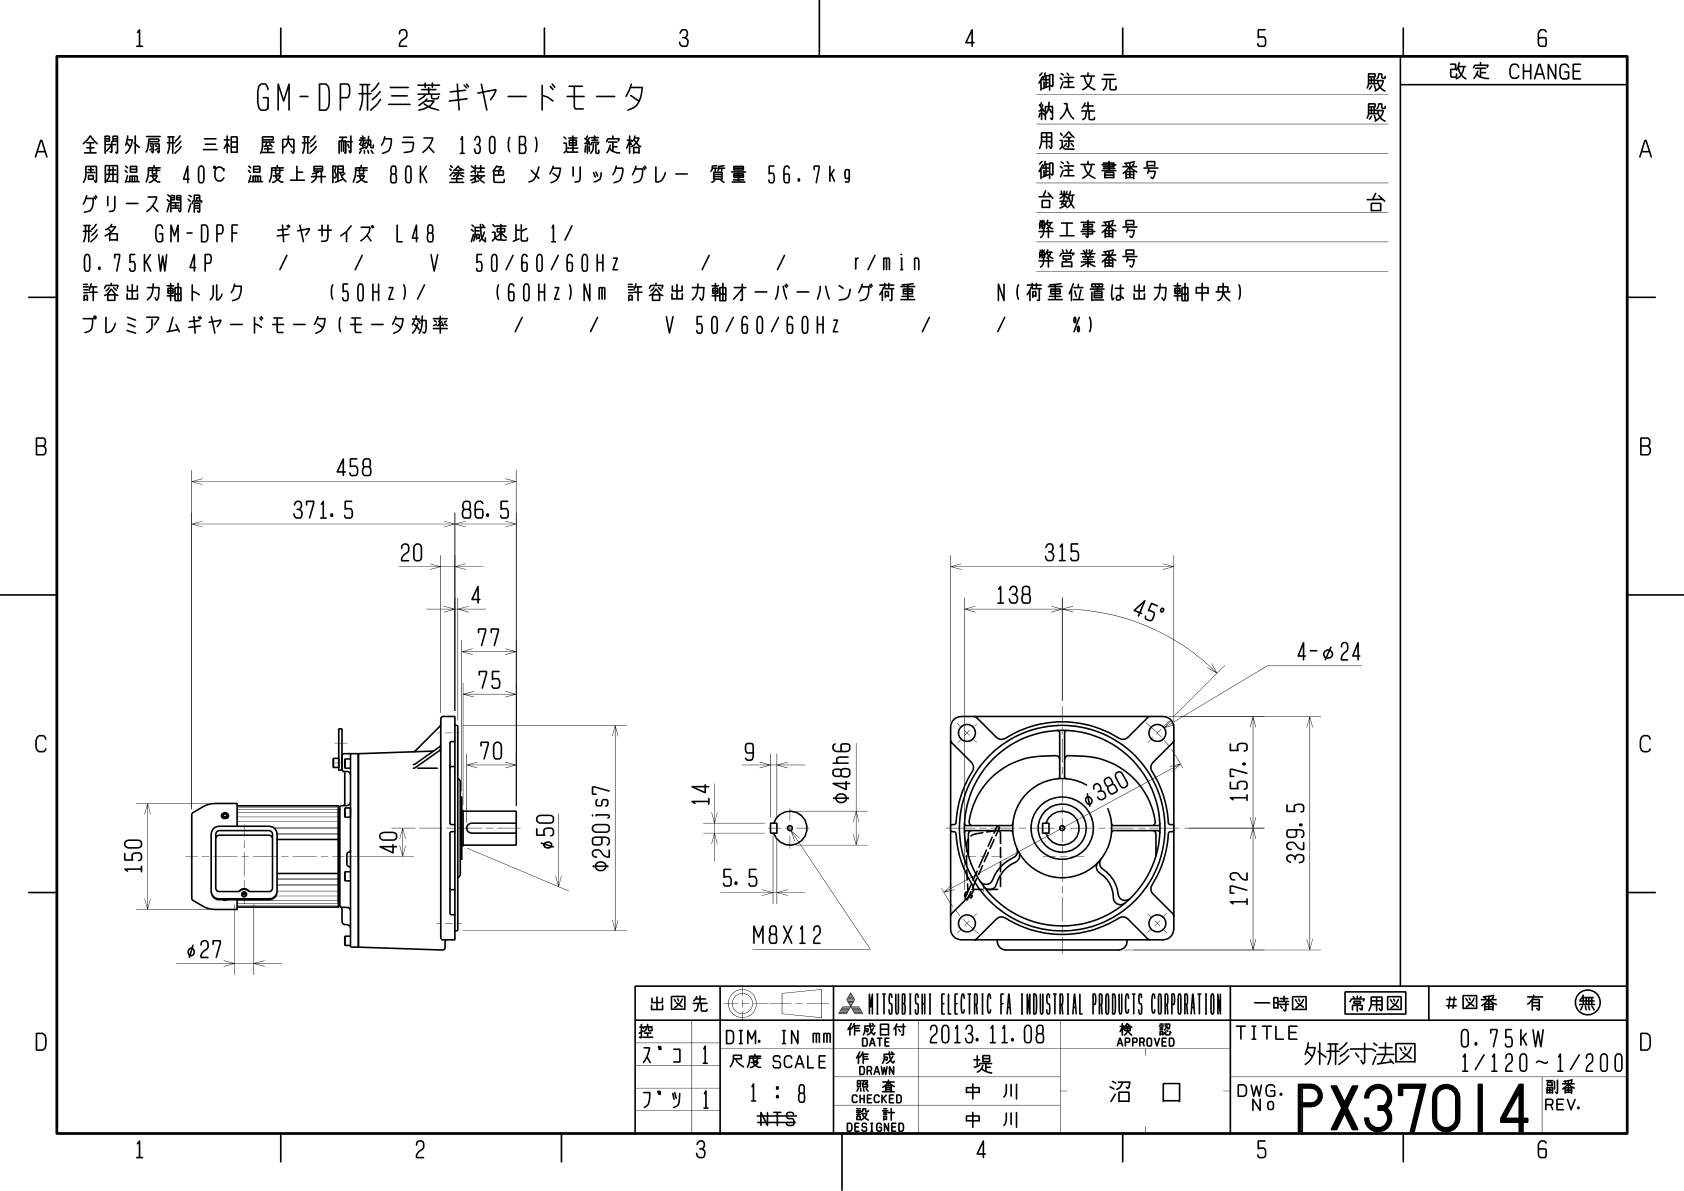GM_DP_屋内_三相_フランジ: (15, 8, 1663, 1191)
